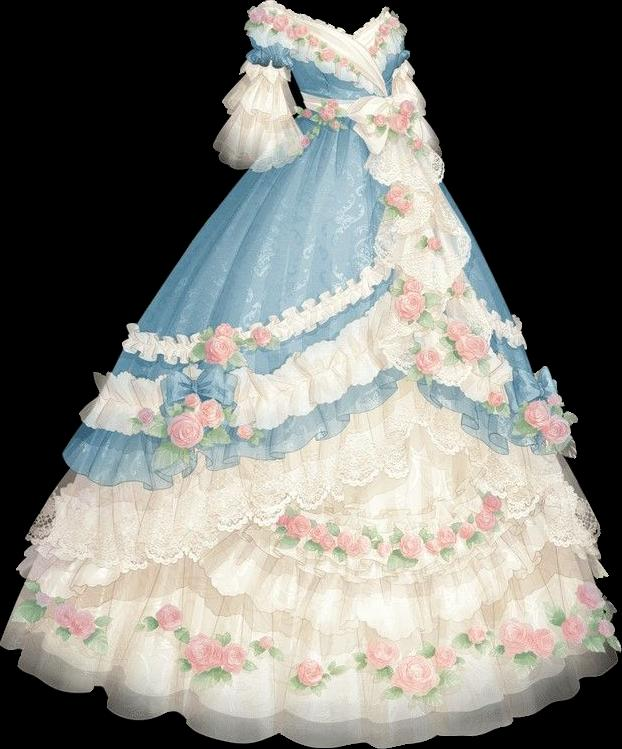Bodice: (290, 10, 399, 115)
Hemline: (18, 420, 602, 598), (0, 637, 621, 748), (61, 367, 567, 495), (192, 529, 555, 640)
Neckline: (293, 10, 392, 96), (292, 10, 384, 38), (301, 90, 392, 102)
Skirt: (1, 105, 620, 748)
Sleeve: (213, 0, 306, 172)
Sleeveline: (288, 9, 302, 59), (252, 46, 294, 62)
Waistline: (291, 56, 392, 100), (219, 103, 302, 124), (304, 104, 395, 120), (238, 70, 293, 87)
